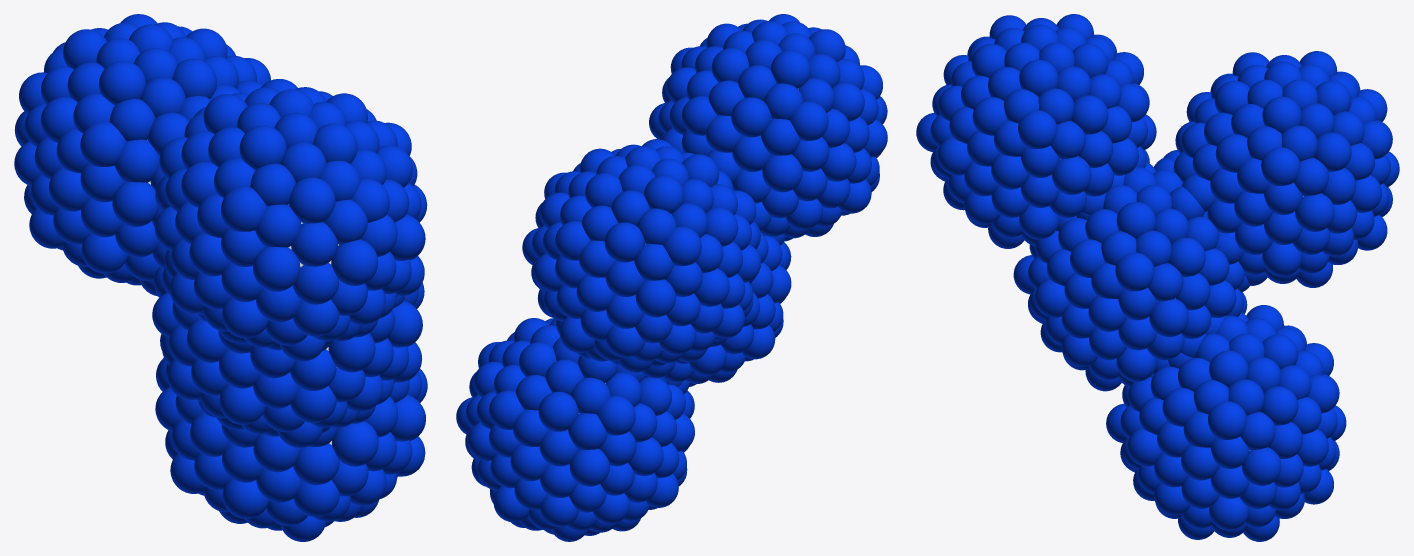
File: groupe-atome.glb
3 renders of one model, left to right at view 1: azimuth 30°, elevation 25°; view 2: azimuth 150°, elevation 25°; view 3: azimuth 270°, elevation 25°, orthographic. The views are drawn at different scales.
Parts seen in each view (by area): view 1: Sphere.006 (×29), Sphere.007 (×22), Sphere.002 (×19), Sphere.003 (×14), Sphere.005 (×11), Sphere.001 (×11), Sphere.004 (×12), Sphere (×9); view 2: Sphere.002 (×23), Sphere.006 (×21), Sphere.003 (×18), Sphere.004 (×19), Sphere.005 (×16), Sphere.007 (×16), Sphere.001 (×3), Sphere (×3); view 3: Sphere.006 (×20), Sphere.002 (×20), Sphere.004 (×20), Sphere (×20), Sphere.003 (×16), Sphere.007 (×15), Sphere.005 (×15), Sphere.001 (×12).
Boxes of the visible parts, x1,y1,x2,y2 form: Sphere.006 (×29): [165, 102, 411, 345]; Sphere.007 (×22): [154, 89, 424, 361]; Sphere.002 (×19): [24, 37, 238, 280]; Sphere.003 (×14): [14, 24, 227, 273]; Sphere.005 (×11): [155, 387, 425, 541]; Sphere.001 (×11): [152, 292, 421, 447]; Sphere.004 (×12): [172, 395, 412, 525]; Sphere (×9): [168, 324, 408, 431]; Sphere.002 (×23): [555, 158, 745, 343]; Sphere.006 (×21): [681, 33, 871, 218]; Sphere.003 (×18): [533, 146, 761, 357]; Sphere.004 (×19): [489, 359, 679, 512]; Sphere.005 (×16): [467, 342, 694, 526]; Sphere.007 (×16): [666, 21, 887, 229]; Sphere.001 (×3): [689, 265, 791, 375]; Sphere (×3): [721, 262, 775, 354]; Sphere.006 (×20): [949, 42, 1131, 217]; Sphere.002 (×20): [1192, 79, 1374, 254]; Sphere.004 (×20): [1139, 333, 1321, 508]; Sphere (×20): [1046, 185, 1229, 360]; Sphere.003 (×16): [1181, 61, 1391, 276]; Sphere.007 (×15): [937, 24, 1148, 239]; Sphere.005 (×15): [1127, 334, 1338, 530]; Sphere.001 (×12): [1035, 167, 1236, 381].
Size of the model in its own units: 3.42 by 5.05 by 4.84.
